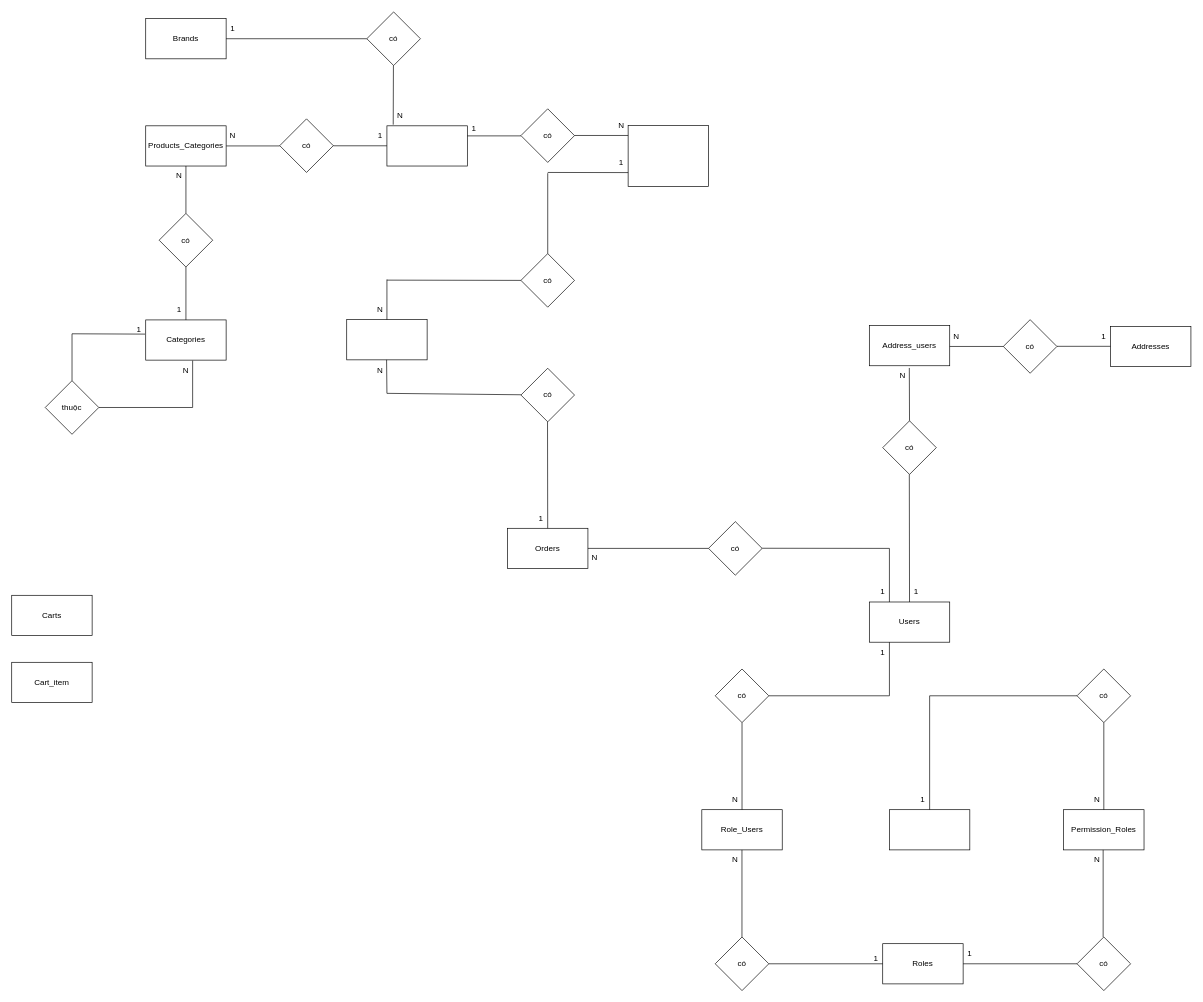
Some shapes in this 1203 by 1002 pixel diagram are drawn without their labels. Each missing label, with the centre of its shape:
Orders_details: the point at 386,339
Permission: the point at 929,829
Products: the point at 426,145
Products_Variants: the point at 668,156
